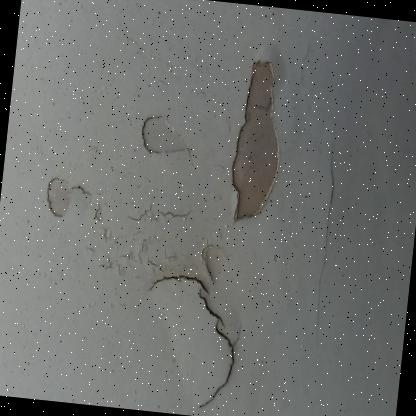Crack: (13, 6, 310, 415)
